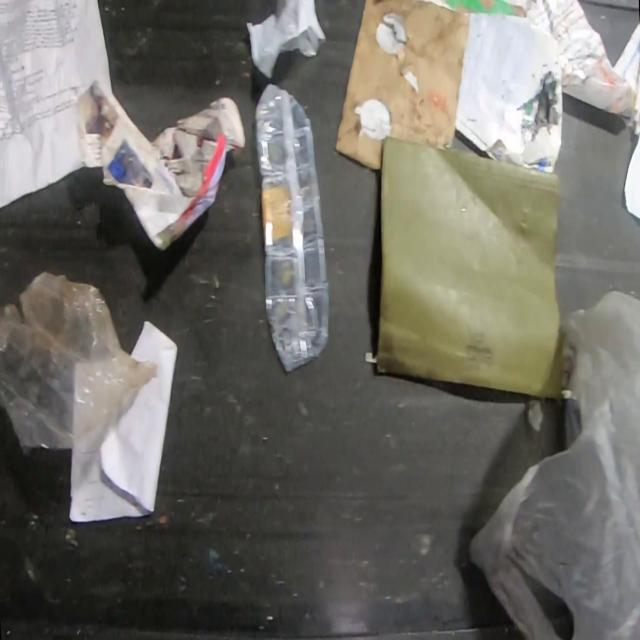cardboard: (374, 135, 564, 400), (334, 0, 470, 172)
rigid_plastic: (254, 84, 332, 372)
soft_plastic: (465, 286, 640, 639), (0, 273, 158, 449)
